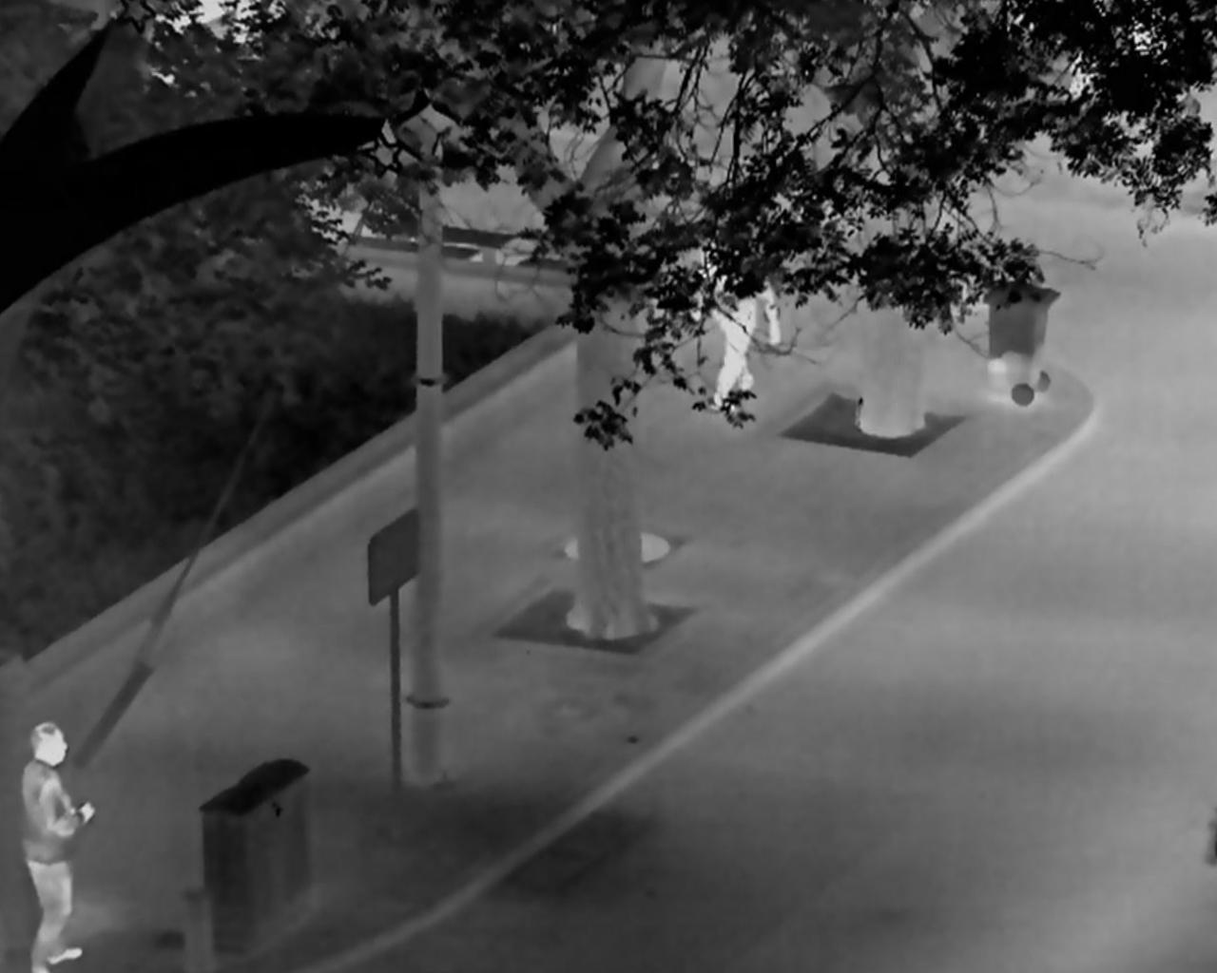person: (18, 717, 96, 973), (686, 220, 783, 413)
